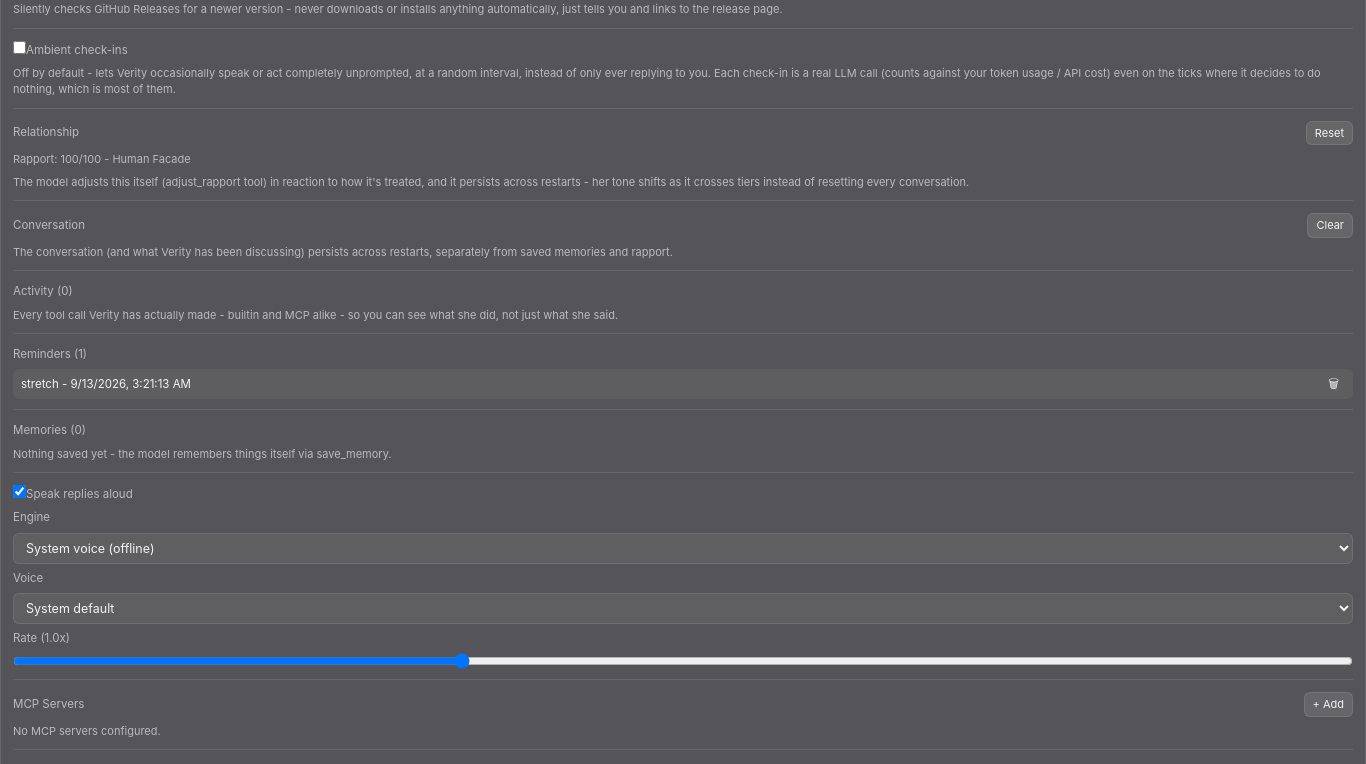
Test case: SettingsPanel › reminders › lists pending reminders and cancels one
(page scrolled)
expect the text "Reminders (1)" is shown: met, box [13,347,87,361]
expect the text "stretch - 9/13/2026, 3:21:13 AM" is shown: met, box [21,377,191,391]
Click the button named "Cancel reminder" at (1334, 384), box [1322,374,1345,394]
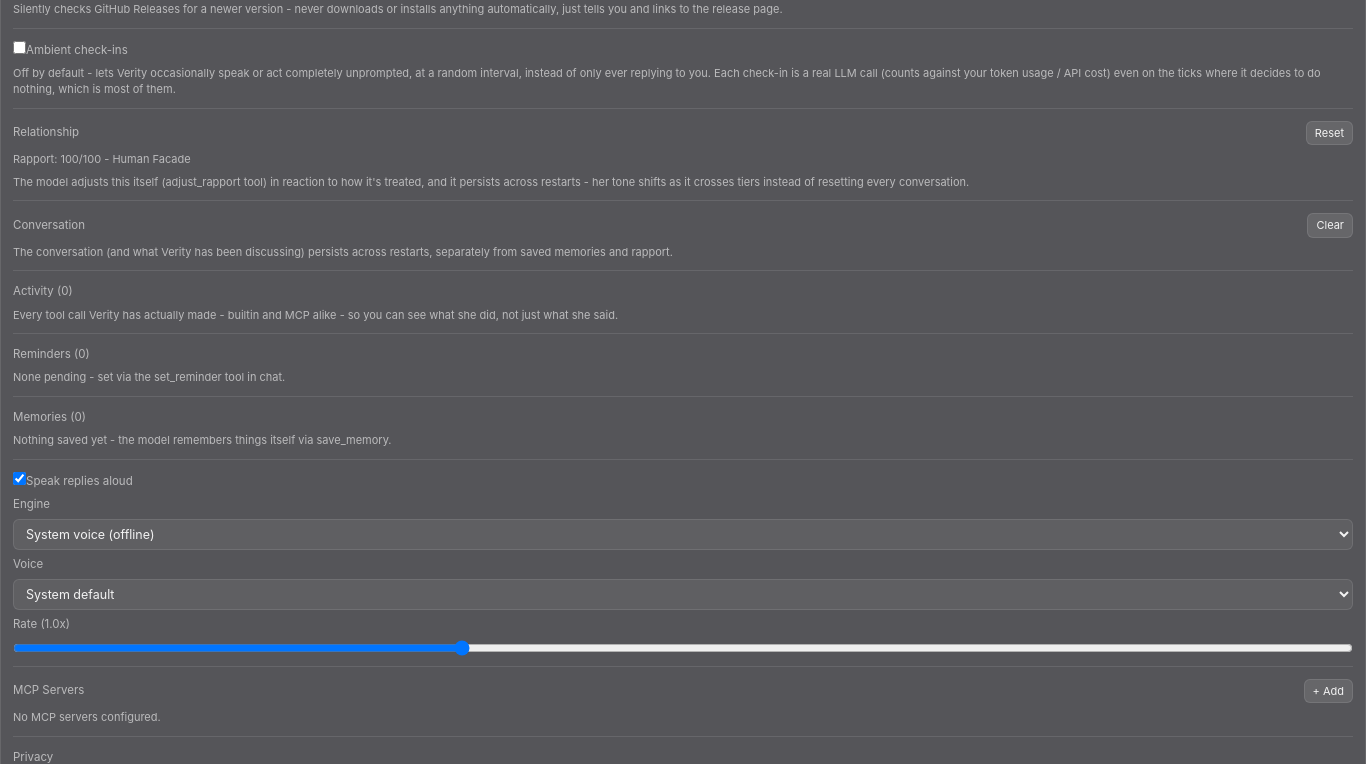
expect the text "Reminders (0)" is shown: met, box [13,347,90,361]
